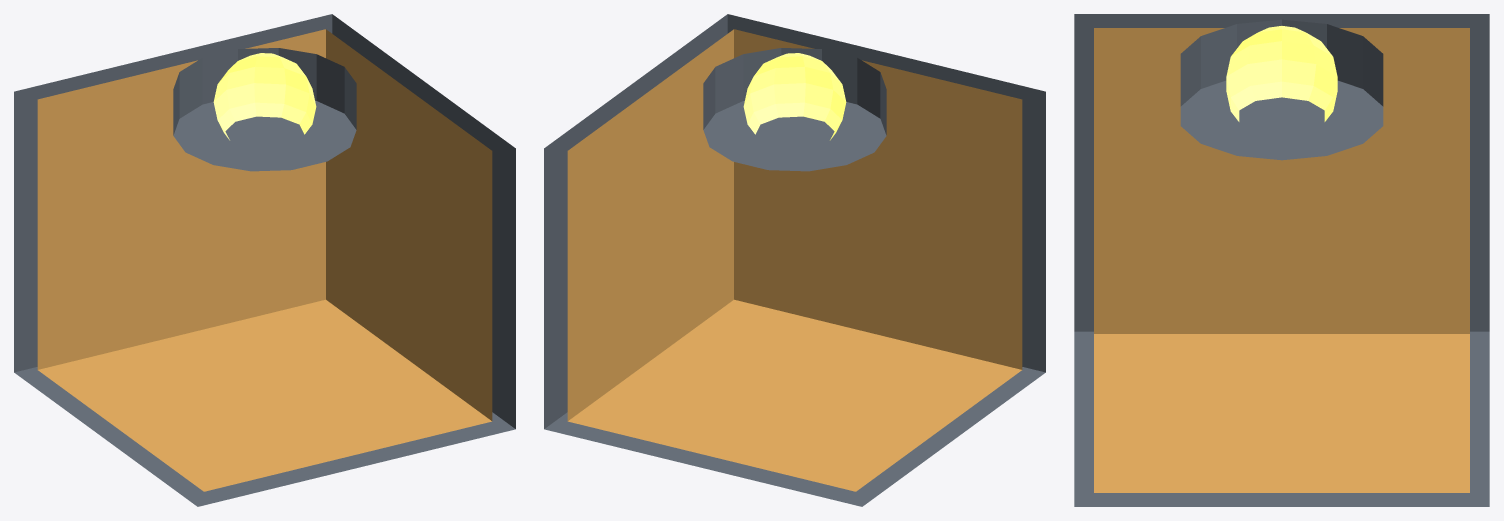
The model's file is deepRecoveryCrateHeavy.b4848ad9.glb.
3 renders of one model, left to right at view 1: azimuth 30°, elevation 25°; view 2: azimuth 150°, elevation 25°; view 3: azimuth 270°, elevation 25°, orthographic. The views are drawn at different scales.
Parts seen in each view (by area): view 1: crateHull, crateTrim, crateGlow; view 2: crateHull, crateTrim, crateGlow; view 3: crateHull, crateTrim, crateGlow.
Part boxes in pixels (box(x1,y1,x2,y2)): crateHull: box(37, 29, 492, 491); crateTrim: box(14, 14, 515, 506); crateGlow: box(213, 53, 316, 140); crateHull: box(567, 29, 1022, 491); crateTrim: box(544, 14, 1045, 506); crateGlow: box(743, 53, 846, 140); crateHull: box(1094, 28, 1469, 492); crateTrim: box(1074, 14, 1489, 506); crateGlow: box(1226, 26, 1337, 121).
Size of the model in its own units: 1.28 by 1.32 by 1.28.
